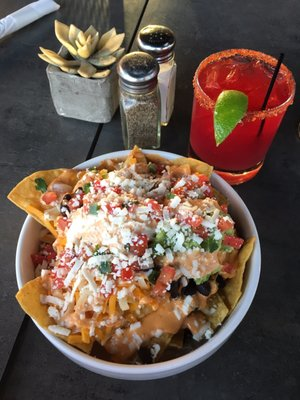pizza: (188, 48, 297, 186)
sushi: (8, 144, 262, 381)
